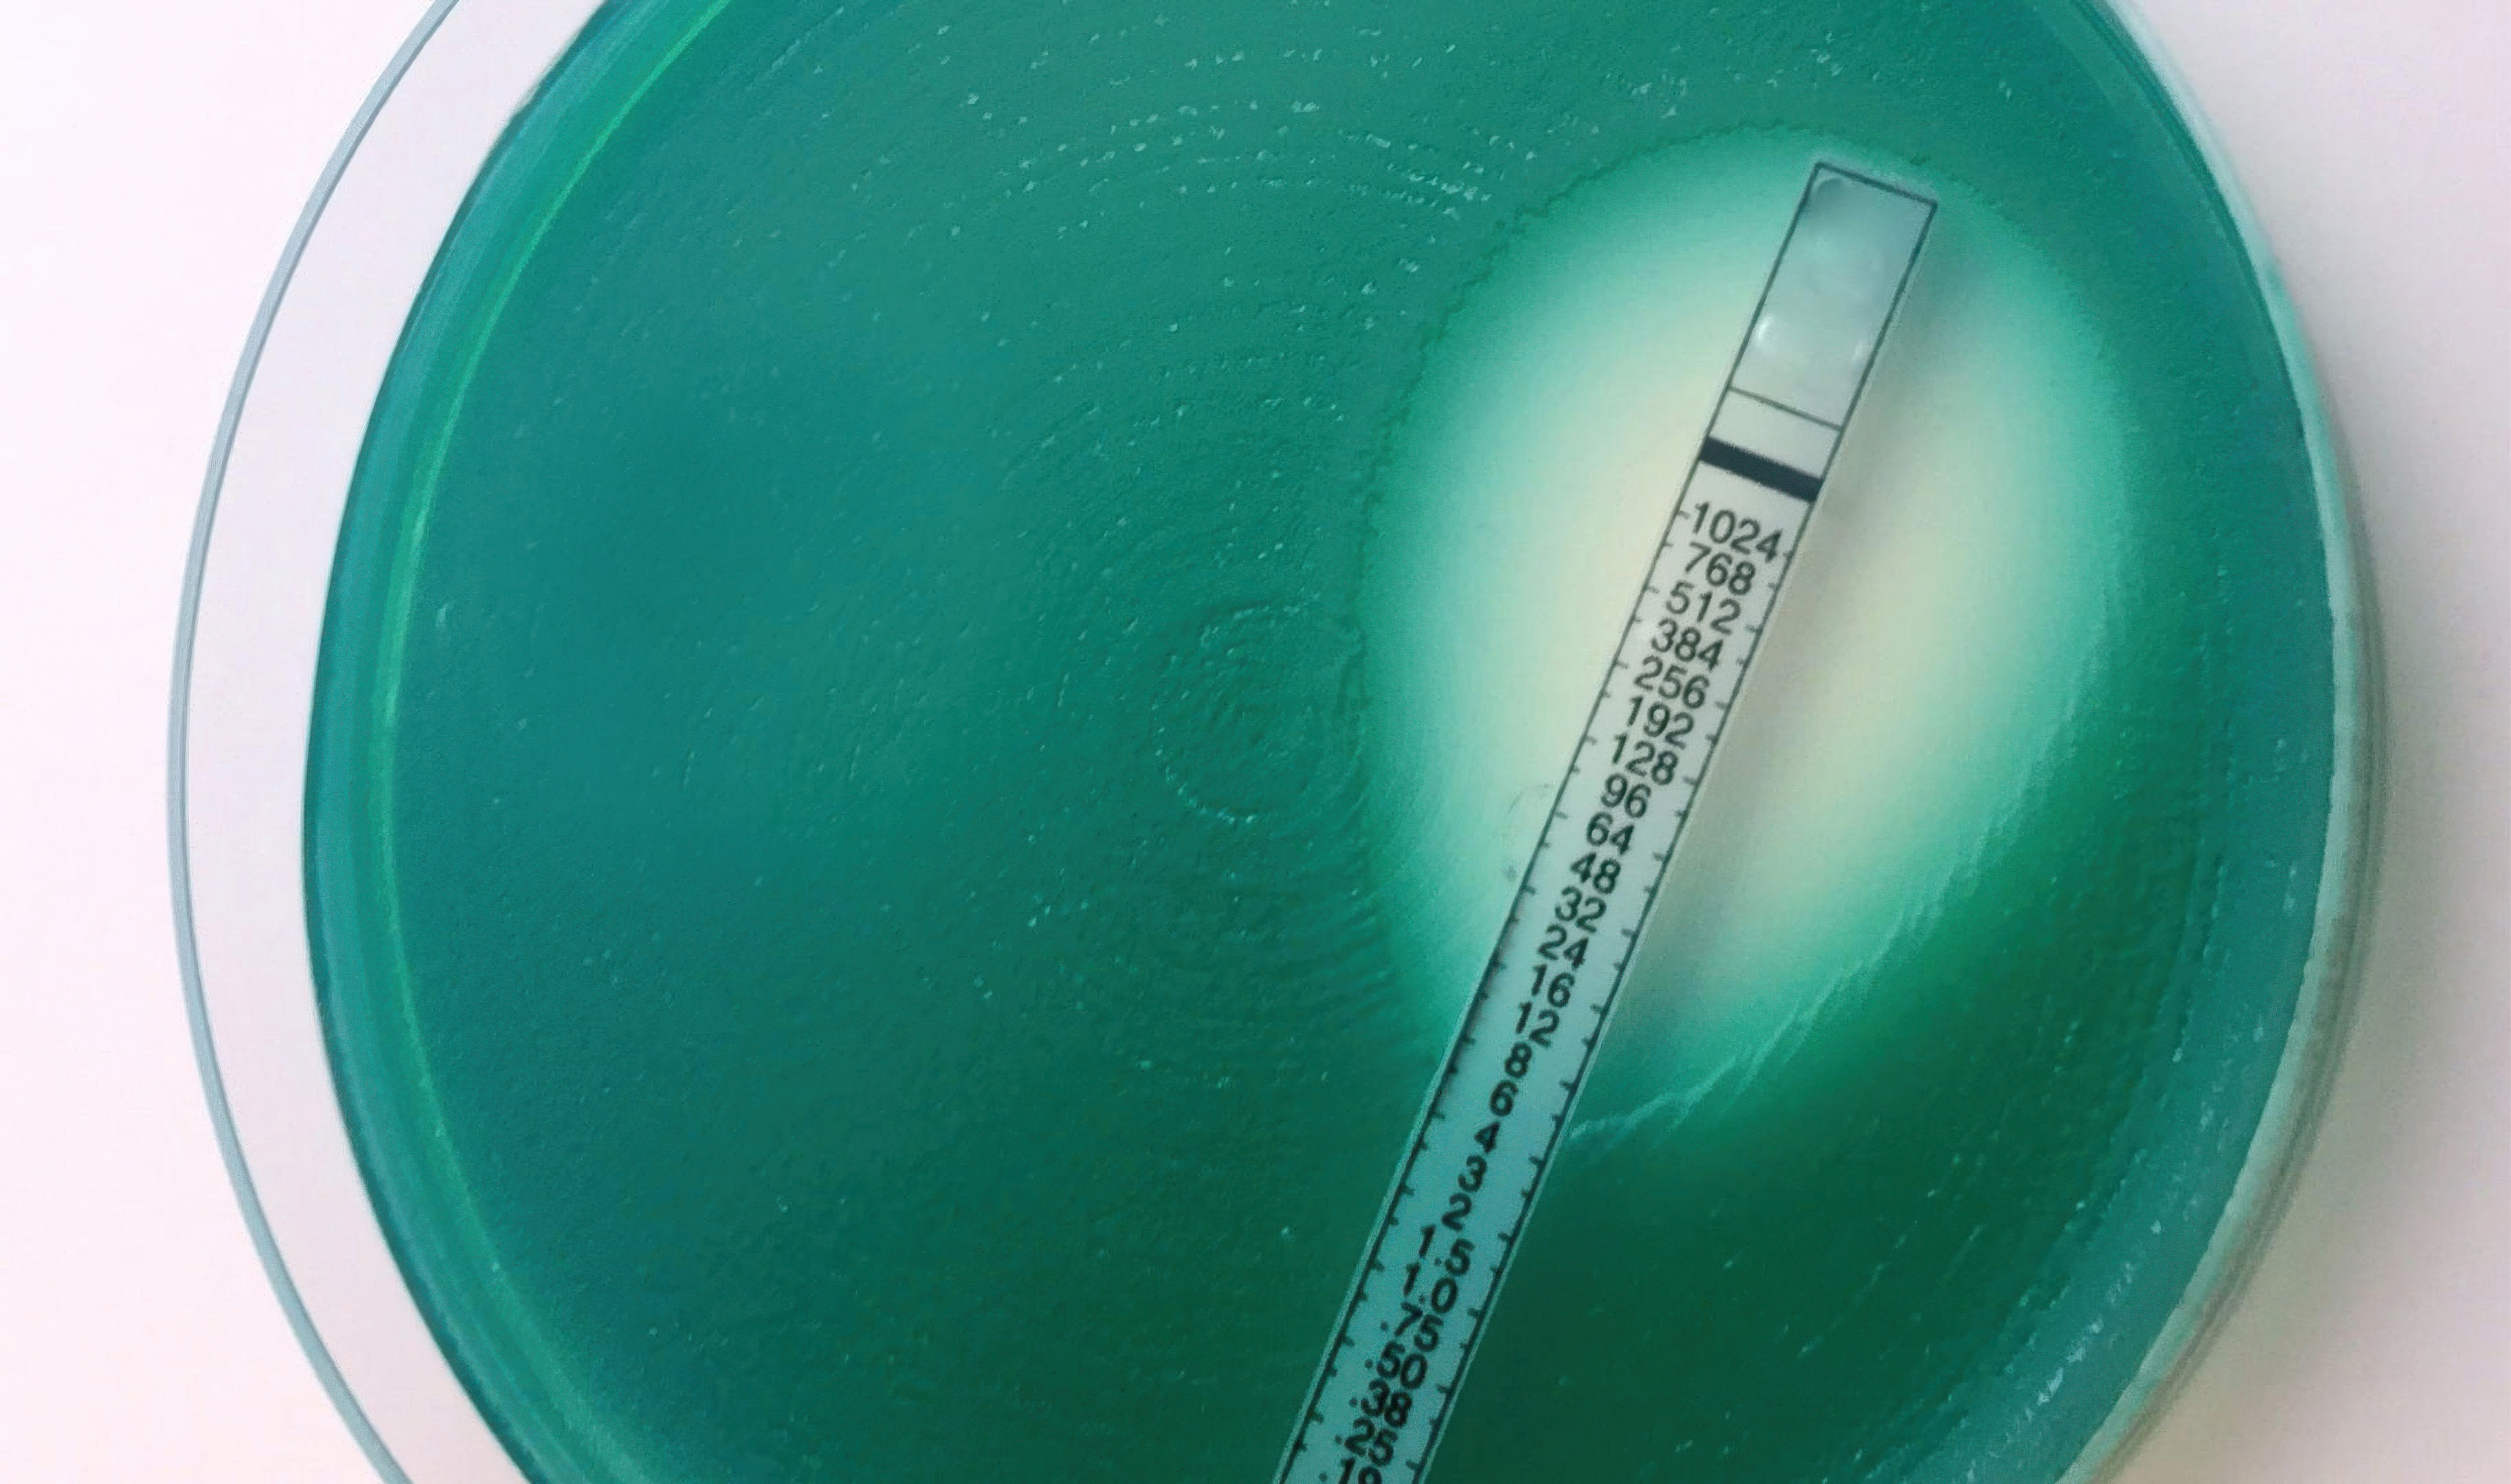line: (1269, 145, 1954, 1484)
zone: (1187, 27, 2234, 1219)
